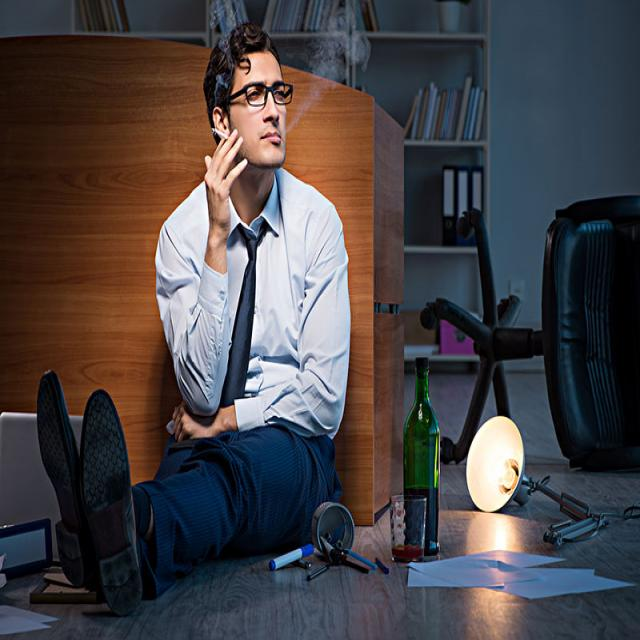smoking: (212, 126, 236, 145)
